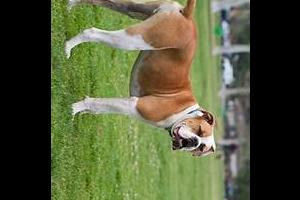dog: (63, 0, 227, 157)
